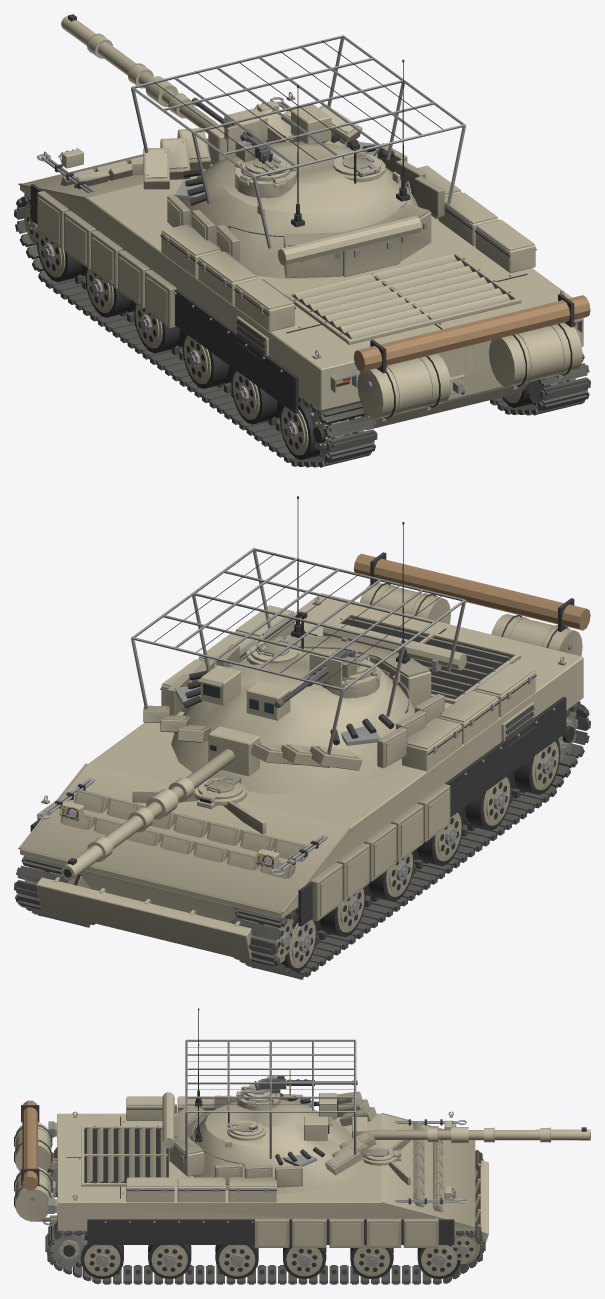
File: rus_mbt_72b3.glb
The picture shows the model from 3 angles, top to bottom: view 1: azimuth 30°, elevation 25°; view 2: azimuth 150°, elevation 25°; view 3: azimuth 270°, elevation 25°; orthographic projection. The views are drawn at different scales.
Visible parts, largest first — view 1: body, turret, barrel; view 2: body, turret, barrel; view 3: body, turret, barrel.
Boxes of the visible parts, x1,y1,x2,y2 form: body: [14, 92, 590, 467]; turret: [131, 35, 466, 279]; barrel: [61, 14, 235, 164]; body: [14, 552, 590, 979]; turret: [131, 496, 466, 793]; barrel: [61, 726, 259, 880]; body: [14, 1096, 488, 1284]; turret: [162, 1008, 376, 1193]; barrel: [352, 1117, 590, 1143].
Size of the model in its own units: 3.78 by 3.92 by 9.59.
